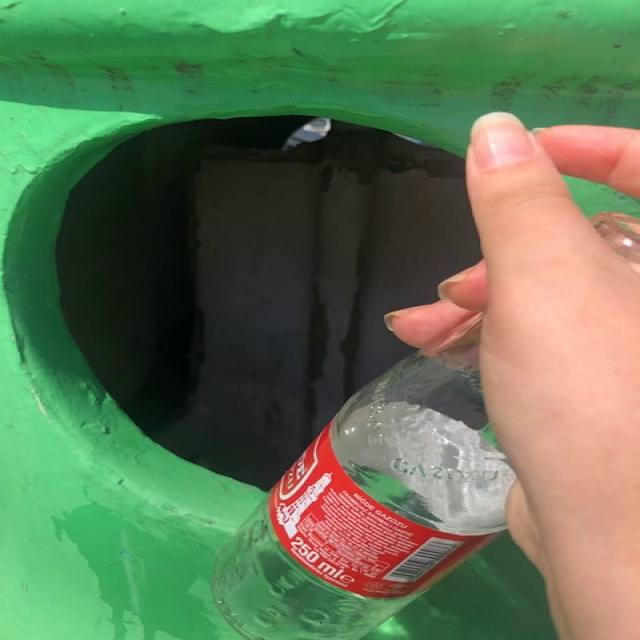glass: (213, 313, 516, 640)
